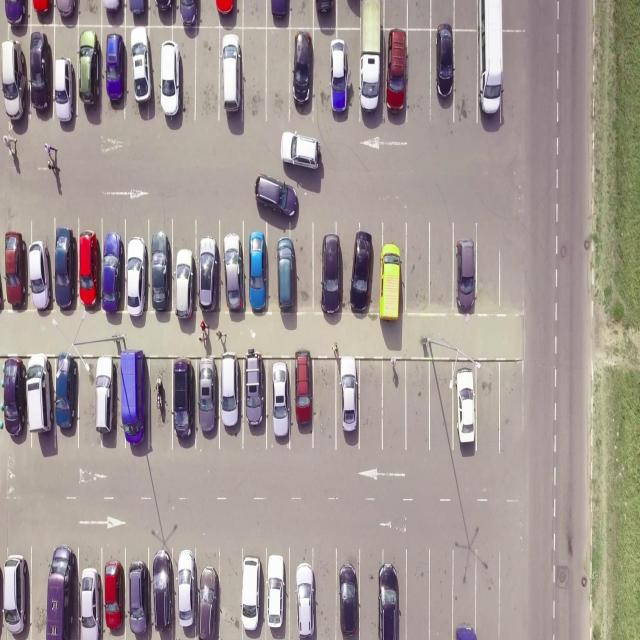Car: (2, 555, 27, 636), (1, 40, 26, 120), (27, 30, 51, 112), (255, 172, 298, 217), (53, 226, 76, 310), (386, 28, 408, 114), (3, 358, 26, 438), (125, 235, 147, 317), (54, 352, 77, 430), (454, 366, 477, 444), (350, 231, 372, 312), (78, 230, 100, 310), (102, 232, 124, 312), (28, 239, 52, 312), (3, 230, 26, 306), (158, 40, 181, 116), (152, 550, 173, 632), (320, 232, 341, 314), (378, 562, 400, 640), (149, 231, 170, 312), (223, 232, 244, 313), (219, 34, 241, 111), (131, 25, 152, 105), (175, 549, 196, 627), (197, 566, 219, 640), (198, 236, 219, 313), (293, 350, 314, 427), (79, 567, 101, 640), (78, 31, 100, 104), (95, 355, 115, 435), (128, 562, 150, 634), (330, 39, 351, 114), (280, 131, 320, 170), (295, 563, 315, 640), (265, 554, 285, 630), (240, 556, 260, 632), (245, 348, 264, 427), (339, 563, 359, 638), (436, 24, 455, 102), (339, 356, 358, 433), (248, 231, 266, 311), (455, 239, 475, 311), (174, 249, 194, 320), (276, 237, 295, 311), (53, 56, 74, 122), (272, 361, 290, 438), (104, 33, 124, 102), (198, 357, 216, 433), (221, 352, 239, 428), (292, 30, 310, 104), (104, 559, 122, 632), (4, 0, 27, 26), (179, 0, 197, 28), (54, 0, 76, 18), (270, 0, 288, 20), (214, 0, 234, 16), (32, 0, 51, 16), (128, 0, 148, 15), (153, 0, 173, 13), (102, 0, 120, 14)
Cycle: (153, 376, 163, 410)
Truck: (359, 0, 382, 113)
Van: (477, 0, 505, 117), (45, 545, 76, 640), (120, 348, 146, 444), (24, 355, 54, 434), (378, 244, 402, 322), (172, 358, 192, 440)
